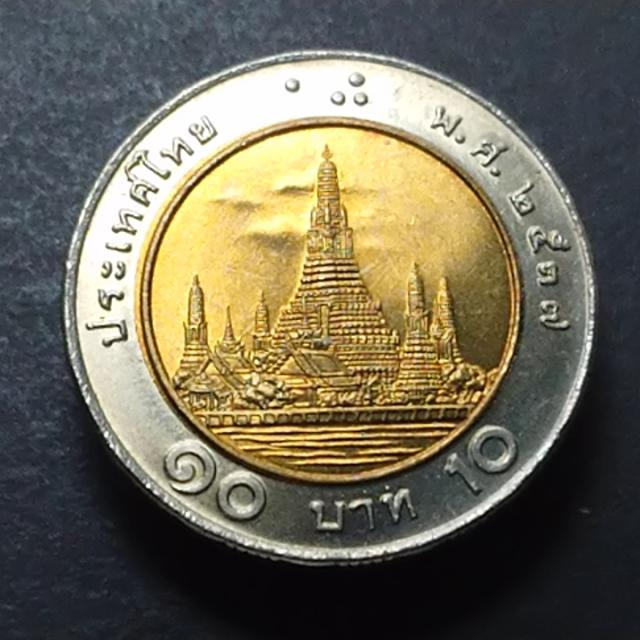10 Bath: (57, 46, 603, 576)
